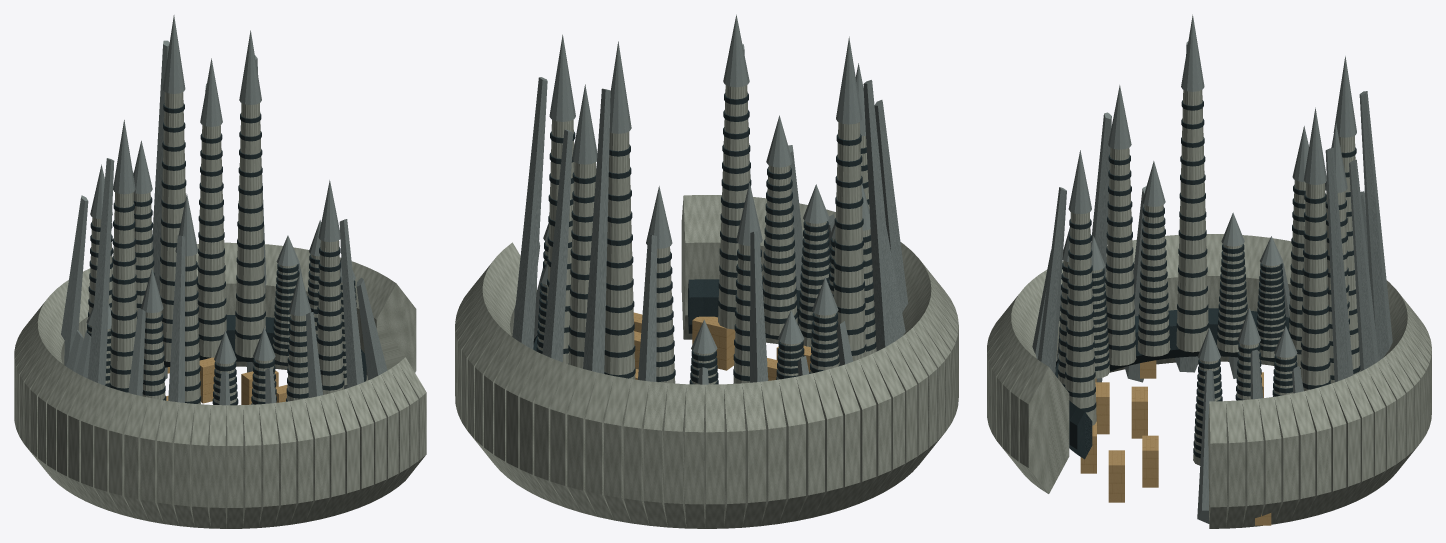
Rendered from fallen_crown_01.fbx.
The picture shows the model from 3 angles, left to right: view 1: azimuth 30°, elevation 25°; view 2: azimuth 150°, elevation 25°; view 3: azimuth 270°, elevation 25°; orthographic projection. The views are drawn at different scales.
Visible parts, largest first — view 1: fallen_crown_01_LOD0; view 2: fallen_crown_01_LOD0; view 3: fallen_crown_01_LOD0.
Part boxes in pixels (x1,y1,x2,y2): fallen_crown_01_LOD0: [14, 15, 426, 528]; fallen_crown_01_LOD0: [455, 14, 958, 528]; fallen_crown_01_LOD0: [987, 14, 1431, 528].
Size of what is drawn, in the model's own units: 1 by 1 by 1.
